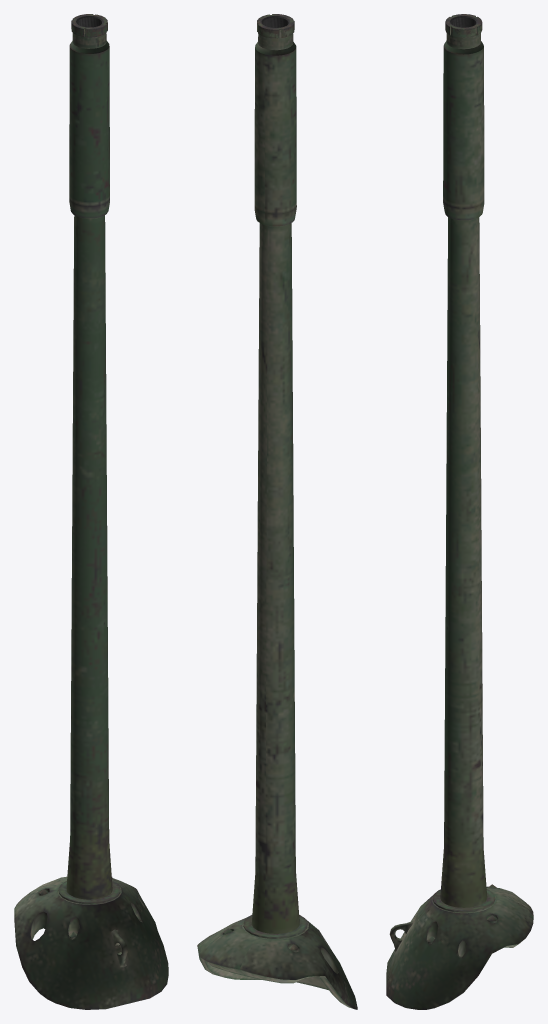
Rendered from Gun_02.glb.
3 renders of one model, left to right at view 1: azimuth 30°, elevation 25°; view 2: azimuth 150°, elevation 25°; view 3: azimuth 270°, elevation 25°, orthographic. The views are drawn at different scales.
Visible parts, largest first — view 1: set_0_group_0; view 2: set_0_group_0; view 3: set_0_group_0.
Part boxes in pixels (x1,y1,x2,y2): set_0_group_0: (14, 14, 168, 1009); set_0_group_0: (197, 14, 357, 1009); set_0_group_0: (386, 14, 533, 1009).
Size of the model in its own units: 0.6272 by 4.21 by 0.5838.
1 material, 1 textured.
